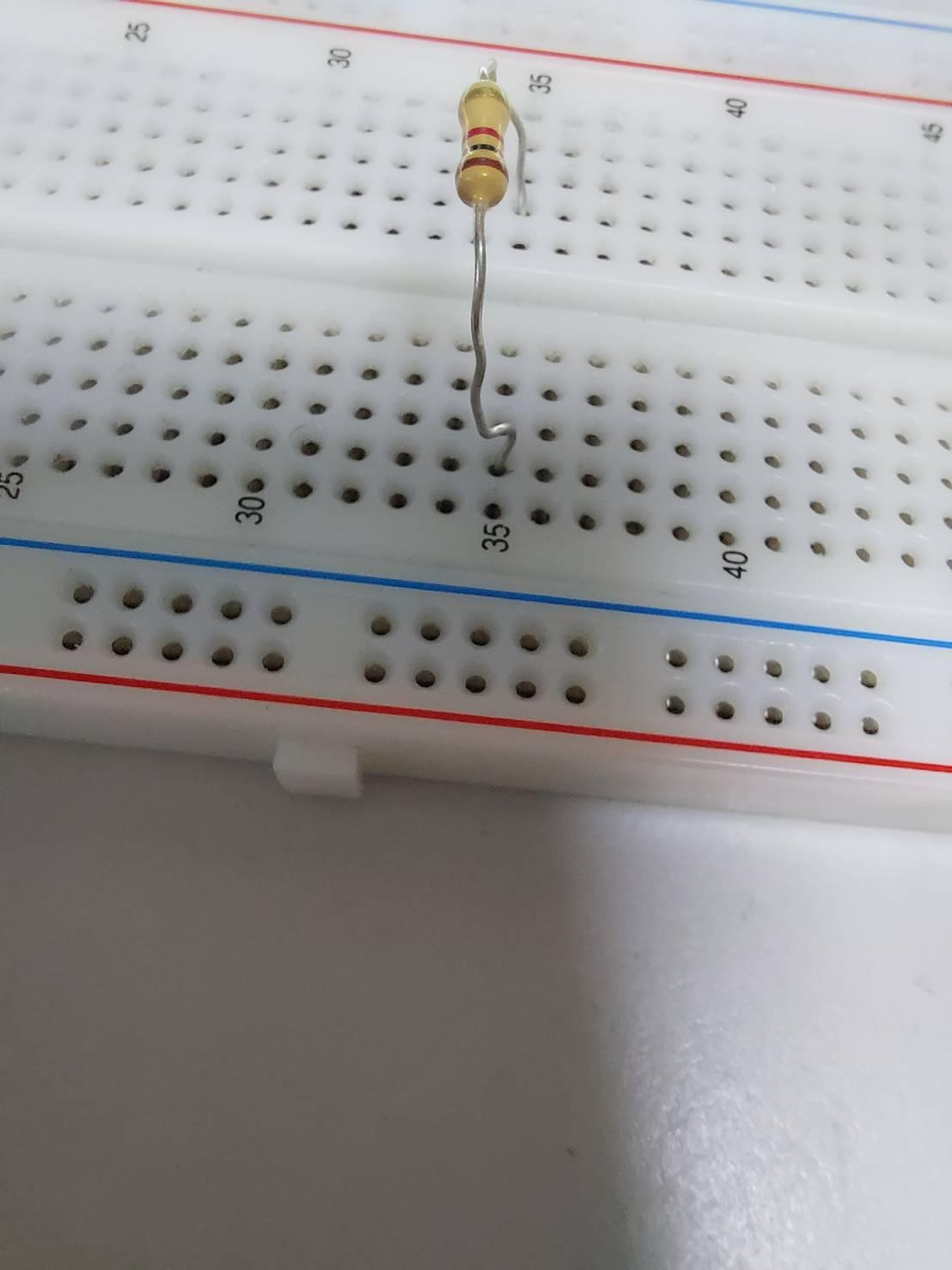resistor: (448, 76, 519, 205)
